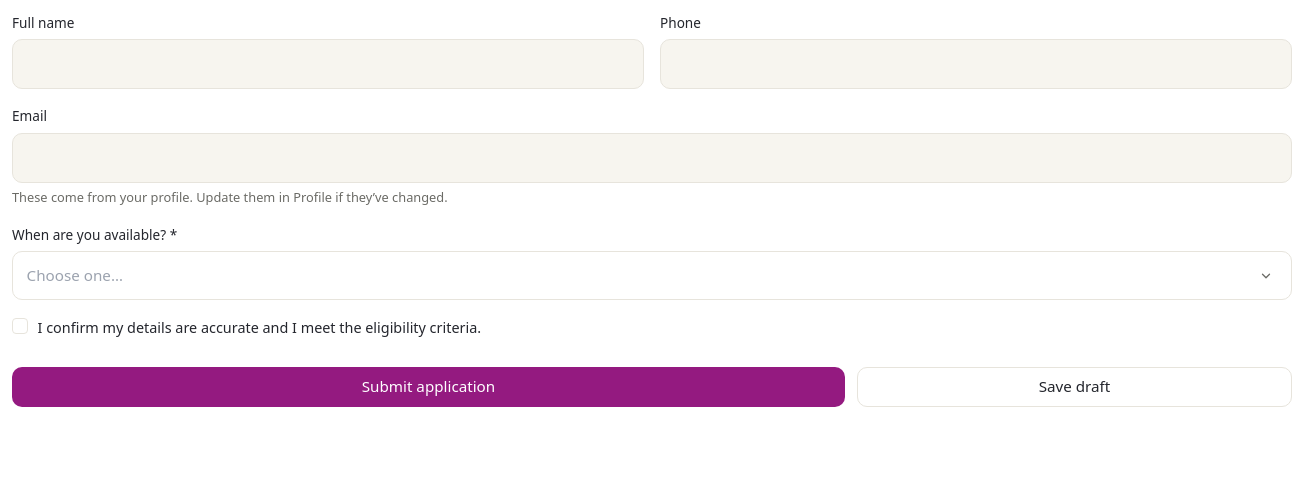
Scenario: ApplyForm (dynamic) › renders a select dropdown question with custom card and updates selected answer
This screenshot has width=1304, height=483.
Expected: the text "When are you available? *" is shown, [12, 225, 177, 244]
Click the dropdown named "When are you available?": [75, 275] box [12, 251, 1292, 300]
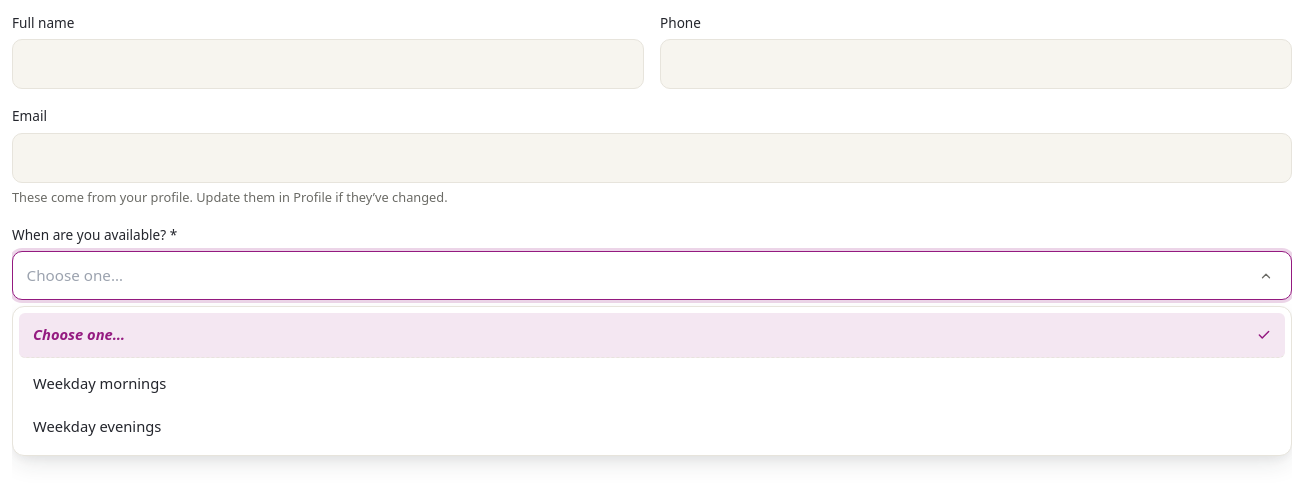
Result: the list is shown at [12, 306, 1292, 456]
Click the option "Weekday evenings": [97, 426] box [33, 416, 161, 436]
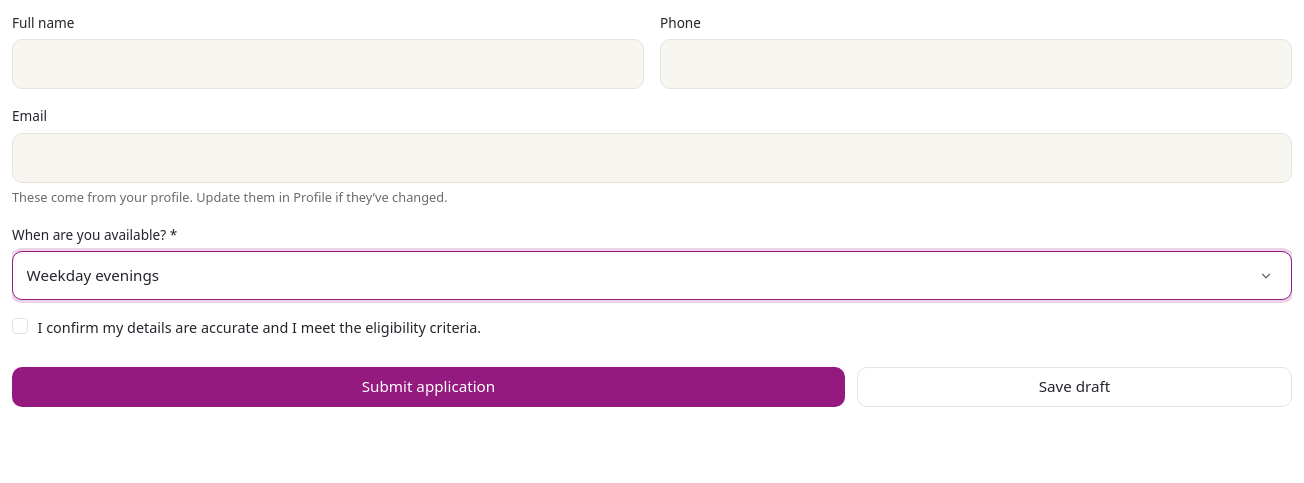
Result: the dropdown named "When are you available?" reads "Weekday evenings" at [12, 251, 1292, 300]
